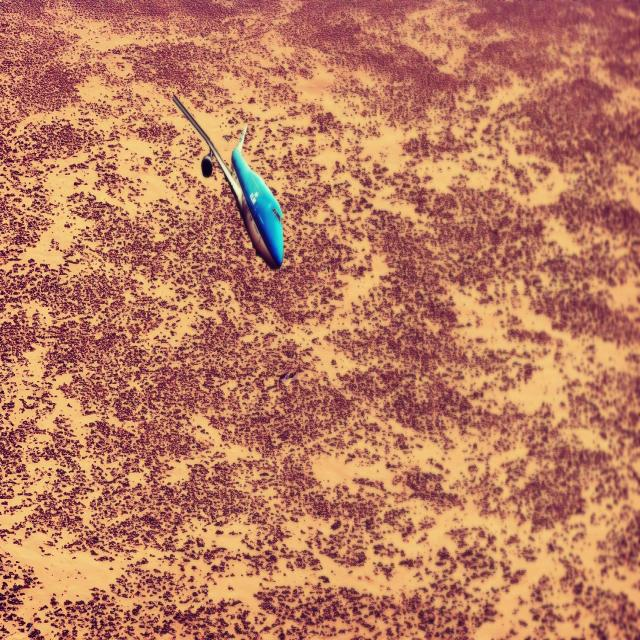airplane: (171, 91, 284, 270)
